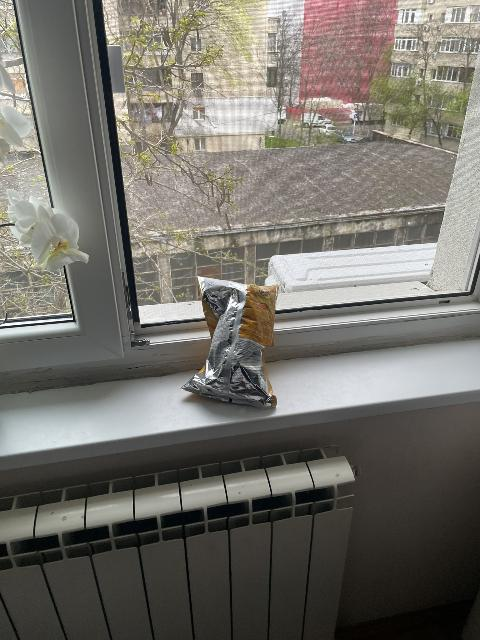Chio Hula Hoops Cheese 70g: (179, 276, 279, 408)
